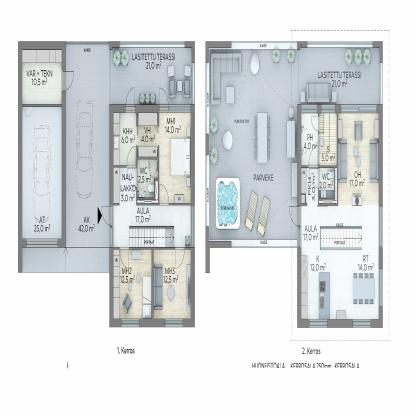door: (63, 69, 77, 95), (120, 250, 133, 273), (175, 246, 186, 272), (288, 206, 301, 226), (308, 166, 319, 188), (158, 87, 169, 108), (158, 184, 168, 206), (308, 145, 319, 165), (125, 146, 136, 165), (124, 87, 134, 107), (310, 113, 320, 132)
window: (306, 42, 375, 50), (119, 41, 184, 46), (341, 104, 376, 113), (163, 317, 183, 330), (322, 107, 338, 119), (308, 318, 329, 326), (380, 207, 384, 249), (122, 319, 138, 329), (379, 268, 383, 308), (191, 206, 195, 245), (301, 104, 319, 112), (353, 322, 368, 330)
zone: (209, 46, 296, 241), (300, 114, 380, 320), (65, 43, 109, 249), (113, 168, 190, 249), (22, 105, 61, 242), (298, 46, 380, 105), (112, 49, 192, 106), (113, 249, 152, 320), (160, 111, 190, 203), (153, 250, 189, 319), (22, 49, 62, 105), (22, 247, 110, 271), (114, 115, 136, 166), (299, 111, 317, 166), (137, 157, 158, 201), (319, 114, 336, 166), (137, 111, 156, 155), (302, 166, 319, 206), (320, 166, 334, 204)
